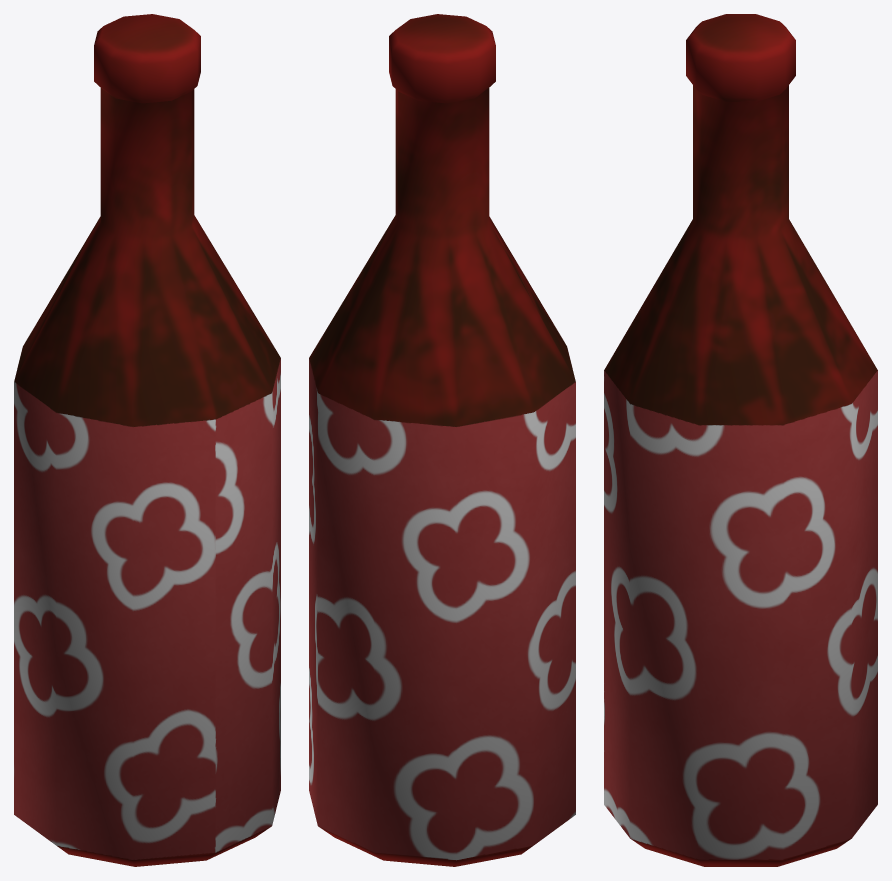
Rendered from soySauce_V3.fbx.
The picture shows the model from 3 angles, left to right: view 1: azimuth 30°, elevation 25°; view 2: azimuth 150°, elevation 25°; view 3: azimuth 270°, elevation 25°; orthographic projection.
Parts seen in each view (by area): view 1: soySauceV3; view 2: soySauceV3; view 3: soySauceV3.
Part boxes in pixels (x1,y1,x2,y2): soySauceV3: (14,14,280,866); soySauceV3: (309,14,575,866); soySauceV3: (604,14,877,866).
Size of the model in its own units: 190 by 634 by 200.
1 material, 1 textured.
